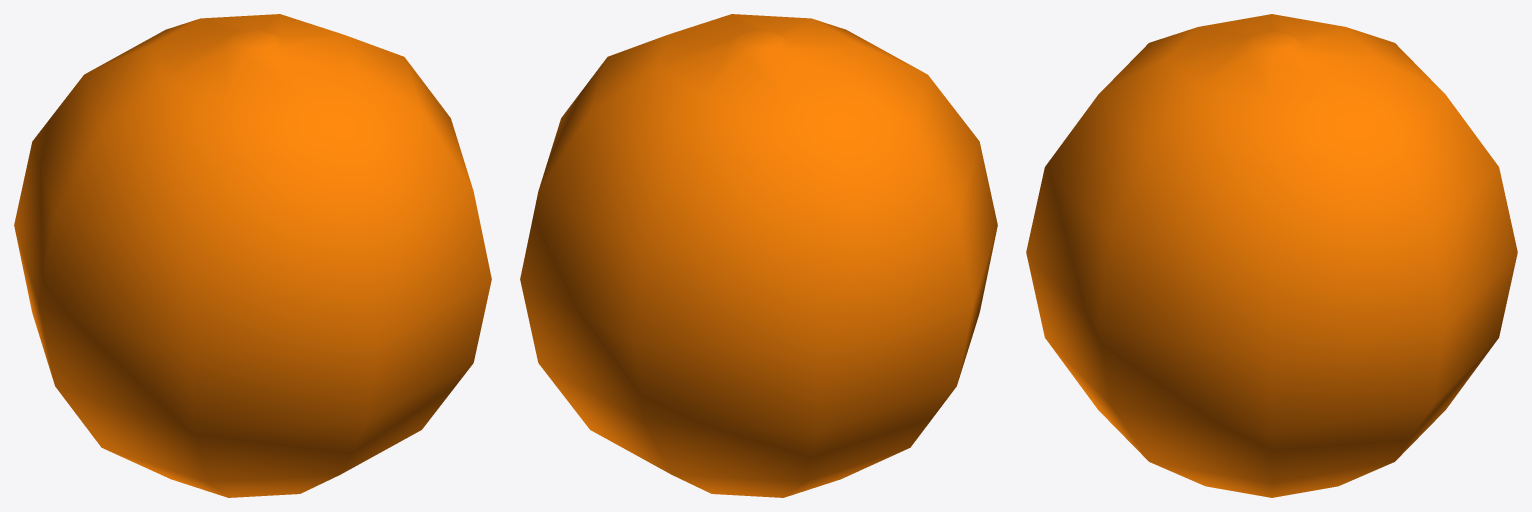
Rendered from orange.glb.
3 renders of one model, left to right at view 1: azimuth 30°, elevation 25°; view 2: azimuth 150°, elevation 25°; view 3: azimuth 270°, elevation 25°, orthographic.
Parts seen in each view (by area): view 1: orange; view 2: orange; view 3: orange.
Boxes of the visible parts, box(x1,y1,x2,y2) form: orange: box(14, 14, 491, 497); orange: box(520, 14, 997, 497); orange: box(1026, 14, 1517, 497).
Bounding box in the file's own units: 0.146 × 0.1401 × 0.146.
